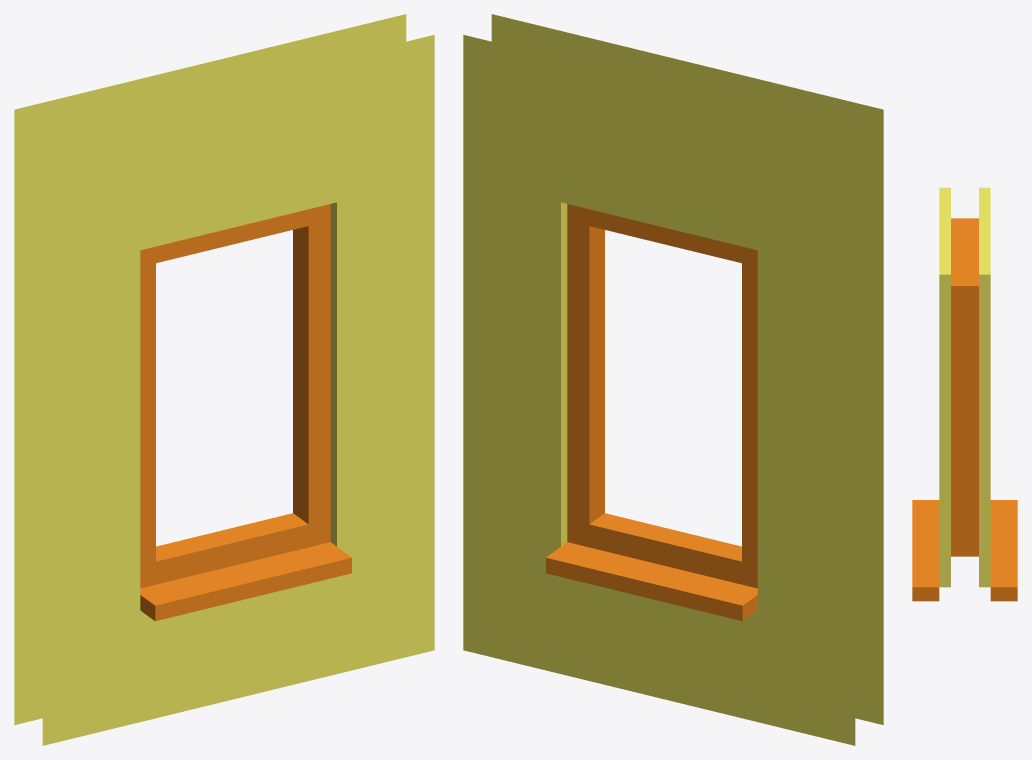
File: MD_Window_Shootable.fbx
3 views of the same model, side by side, from view 1: azimuth 30°, elevation 25°; view 2: azimuth 150°, elevation 25°; view 3: azimuth 270°, elevation 25° (orthographic). The views are drawn at different scales.
Visible parts, largest first — view 1: MD_Window_Shootable; view 2: MD_Window_Shootable; view 3: MD_Window_Shootable.
Boxes of the visible parts, x1,y1,x2,y2 form: MD_Window_Shootable: [14, 14, 434, 745]; MD_Window_Shootable: [463, 14, 883, 745]; MD_Window_Shootable: [912, 187, 1017, 601].
Bounding box in the file's own units: 200 × 300 × 51.37.
